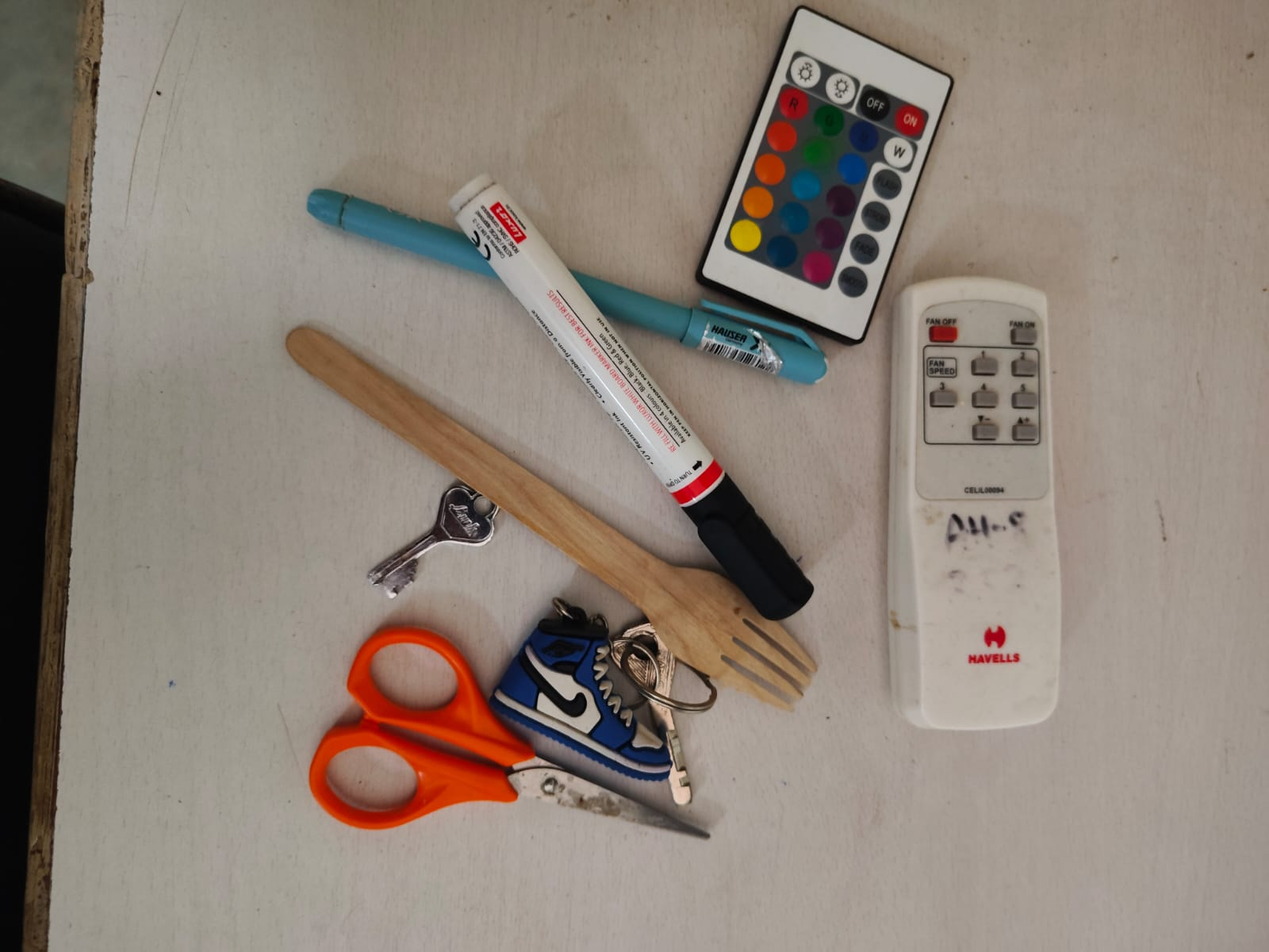case: (439, 167, 837, 618)
pen: (293, 174, 839, 394)
